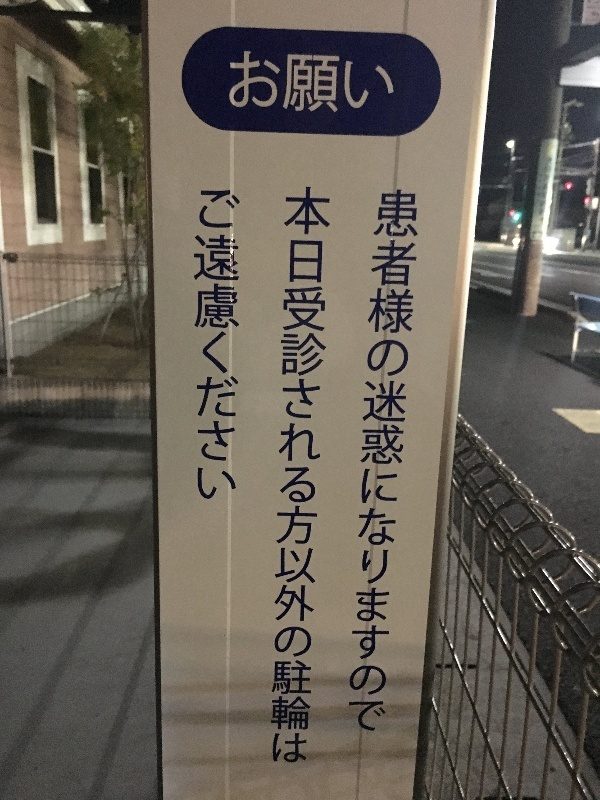text: (289, 188, 304, 765), (305, 188, 320, 765), (385, 191, 400, 736), (401, 191, 416, 736), (321, 188, 331, 765), (374, 191, 384, 736), (225, 189, 241, 500), (209, 189, 224, 500), (196, 189, 208, 500), (284, 188, 288, 765), (417, 191, 421, 736), (241, 51, 256, 117), (257, 51, 272, 117), (273, 51, 288, 117), (289, 51, 304, 117), (305, 51, 320, 117), (321, 51, 336, 117), (337, 51, 352, 117), (353, 51, 368, 117), (369, 51, 384, 117), (385, 51, 395, 117), (231, 51, 240, 117), (545, 157, 552, 223), (538, 157, 544, 223)
